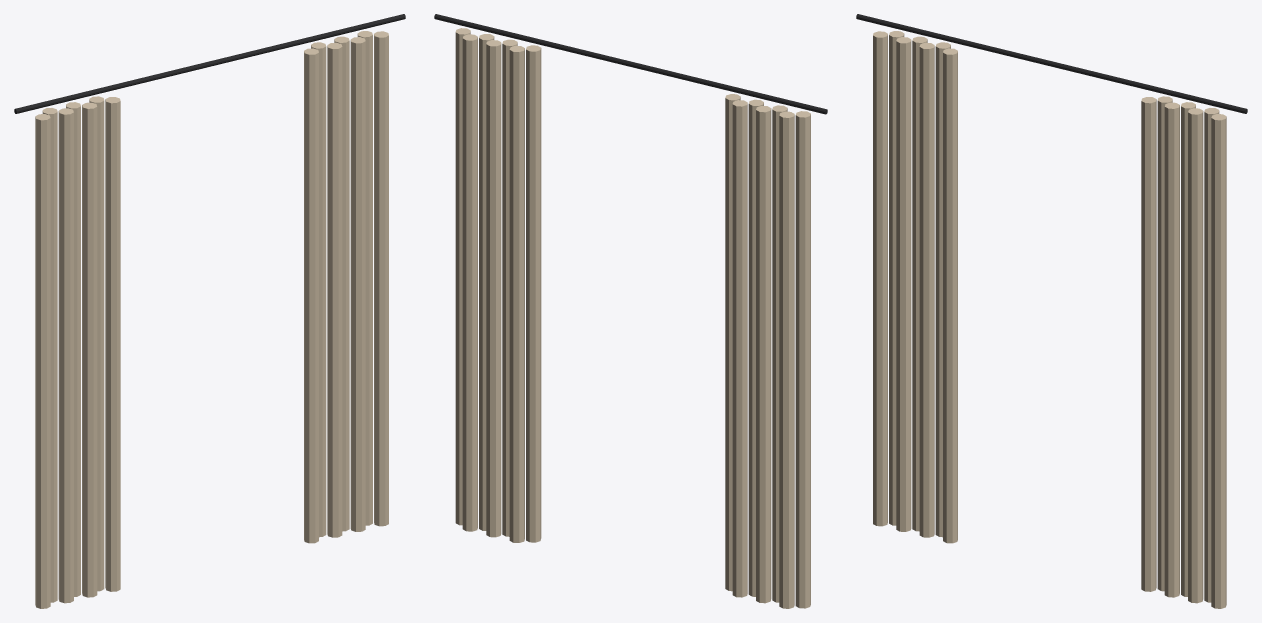
Rendered from i_curtain_0.glb.
The picture shows the model from 3 angles, left to right: view 1: azimuth 30°, elevation 25°; view 2: azimuth 150°, elevation 25°; view 3: azimuth 330°, elevation 25°; orthographic projection.
Parts seen in each view (by area): view 1: o.005, o.003, o.012, o.001, o.007, o.010, o.014, o.008, o.011, o.006, o.013, o.002 (+3 smaller); view 2: o.001, o.002, o.006, o.011, o.009, o.014, o.004, o.013, o.008, o.003, o.012, o.007 (+3 smaller); view 3: o.012, o.010, o.005, o.003, o.008, o.014, o.007, o.001, o.004, o.013, o.006, o.009 (+3 smaller).
Part boxes in pixels (box(x1,y1,x2,y2)): o.005: box(82, 102, 97, 597); o.003: box(58, 108, 73, 603); o.012: box(327, 42, 342, 537); o.001: box(35, 114, 50, 608); o.007: box(105, 97, 120, 591); o.010: box(350, 37, 365, 531); o.014: box(304, 48, 318, 543); o.008: box(374, 31, 388, 526); o.011: box(334, 36, 349, 531); o.006: box(89, 96, 104, 591); o.013: box(311, 42, 326, 537); o.002: box(42, 108, 57, 602); o.001: box(795, 111, 810, 608); o.002: box(779, 111, 794, 608); o.006: box(732, 100, 747, 597); o.011: box(486, 40, 501, 537); o.009: box(462, 34, 477, 531); o.014: box(526, 45, 541, 542); o.004: box(756, 106, 771, 603); o.013: box(509, 45, 524, 542); o.008: box(455, 28, 470, 525); o.003: box(772, 105, 787, 602); o.012: box(502, 39, 517, 536); o.007: box(725, 94, 740, 591); o.012: box(1164, 102, 1179, 597); o.010: box(1188, 108, 1203, 603); o.005: box(919, 42, 934, 537); o.003: box(896, 37, 911, 531); o.008: box(1211, 114, 1226, 608); o.014: box(1141, 97, 1156, 591); o.007: box(943, 48, 957, 543); o.001: box(873, 31, 887, 526); o.004: box(912, 36, 927, 531); o.013: box(1157, 96, 1172, 591); o.006: box(935, 42, 950, 537); o.009: box(1204, 108, 1219, 602).
Size of the model in its own units: 2 by 2.46 by 0.11.
